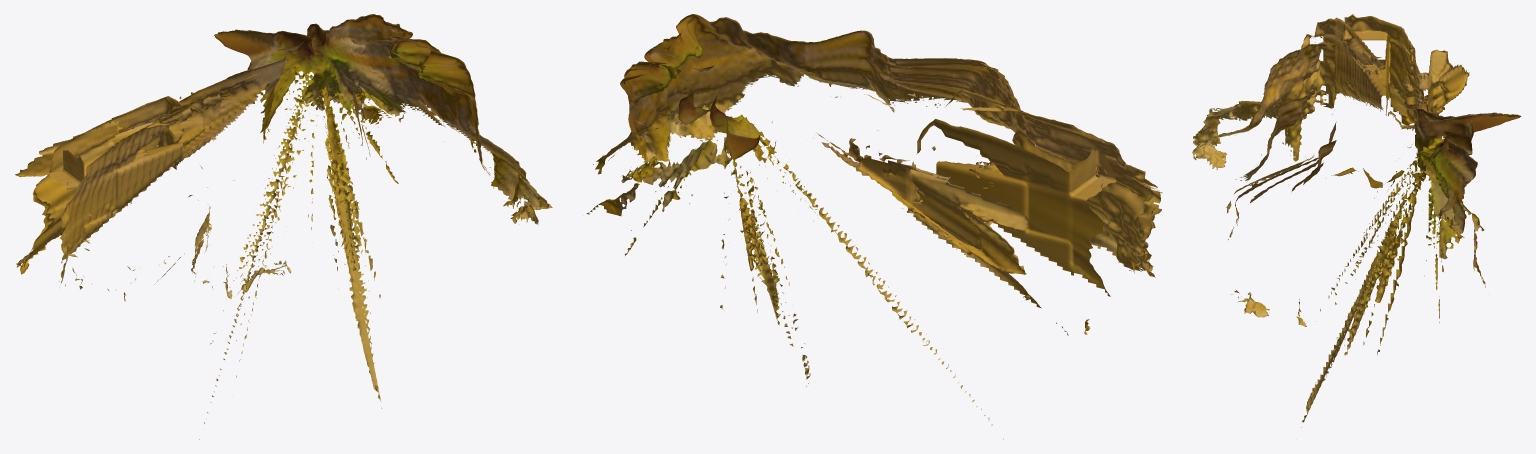
File: collider.glb
The picture shows the model from 3 angles, left to right: view 1: azimuth 30°, elevation 25°; view 2: azimuth 150°, elevation 25°; view 3: azimuth 270°, elevation 25°; orthographic projection. The views are drawn at different scales.
Visible parts, largest first — view 1: world; view 2: world; view 3: world.
Part boxes in pixels (x1,y1,x2,y2): world: (15, 14, 552, 439); world: (586, 14, 1162, 439); world: (1192, 14, 1521, 427).
Bounding box in the file's own units: 45.37 × 32.16 × 29.74.
